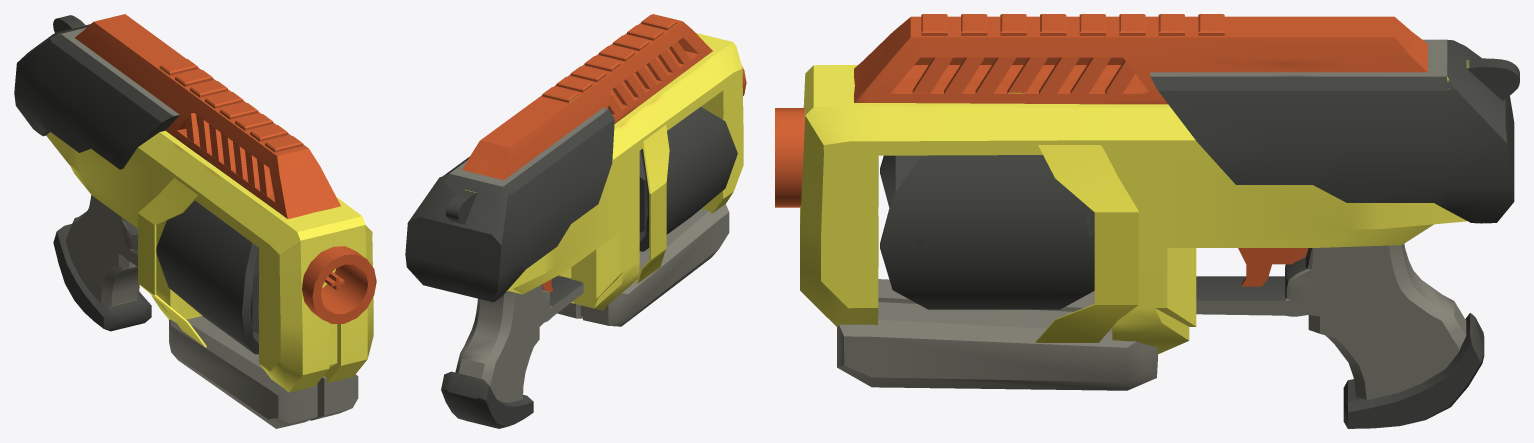
File: nerf_smoothed.fbx
3 views of the same model, side by side, from view 1: azimuth 30°, elevation 25°; view 2: azimuth 150°, elevation 25°; view 3: azimuth 270°, elevation 25° (orthographic). The views are drawn at different scales.
Visible parts, largest first — view 1: NerfGun.001; view 2: NerfGun.001; view 3: NerfGun.001.
Part boxes in pixels (x1,y1,x2,y2): NerfGun.001: (14, 14, 376, 428); NerfGun.001: (405, 14, 746, 428); NerfGun.001: (775, 14, 1519, 428).
Size of the model in its own units: 79.09 by 165 by 282.
Materials: 1 (1 with a texture image).
